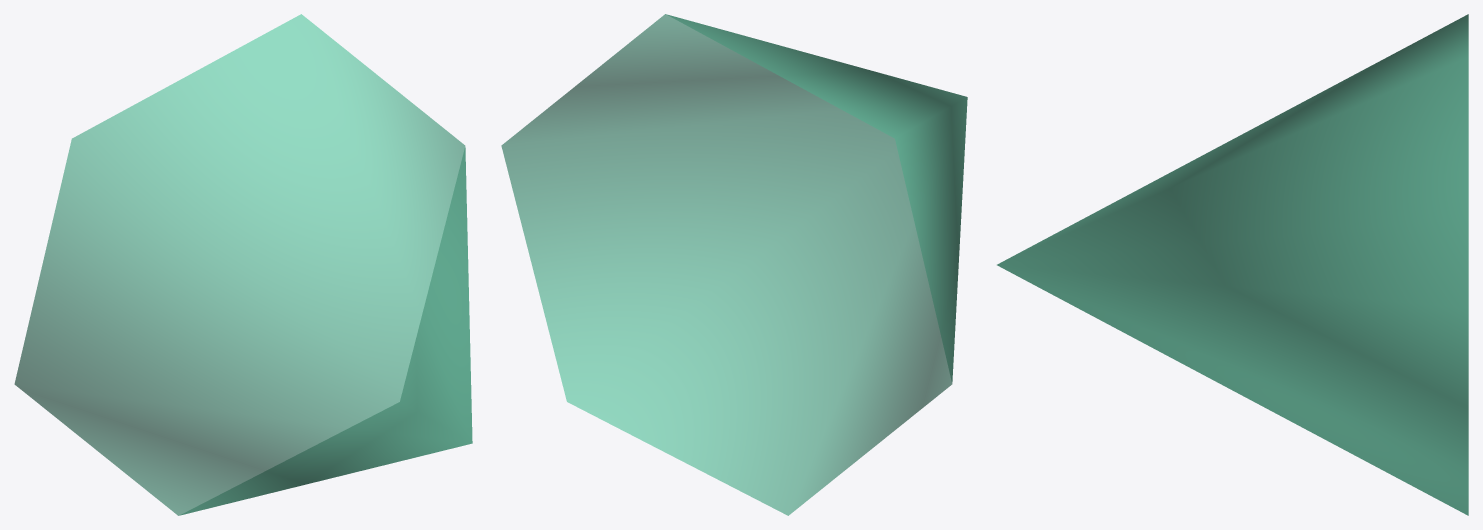
3 renders of one model, left to right at view 1: azimuth 30°, elevation 25°; view 2: azimuth 150°, elevation 25°; view 3: azimuth 270°, elevation 25°, orthographic.
Size of the model in its own units: 5.5 by 5.5 by 5.
